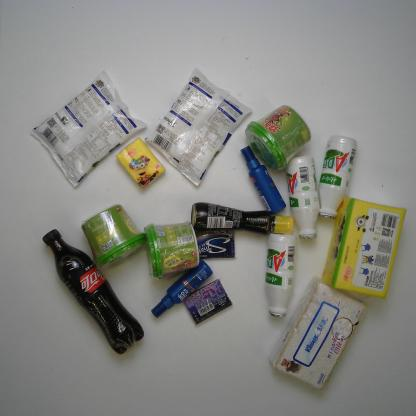Drink: (41, 228, 144, 356)
Gum: (184, 278, 233, 326), (194, 232, 236, 262)
Instant Drink: (244, 102, 313, 173), (81, 204, 148, 272), (143, 219, 202, 283)
Milk: (316, 133, 361, 218), (287, 154, 318, 242), (267, 231, 296, 320)
Personal Hygiene: (151, 260, 214, 320), (239, 144, 285, 217)
Seasoner: (28, 71, 148, 189), (144, 67, 255, 187), (185, 200, 297, 236)
Tissue: (270, 274, 366, 392), (322, 196, 408, 298), (116, 138, 166, 189)
